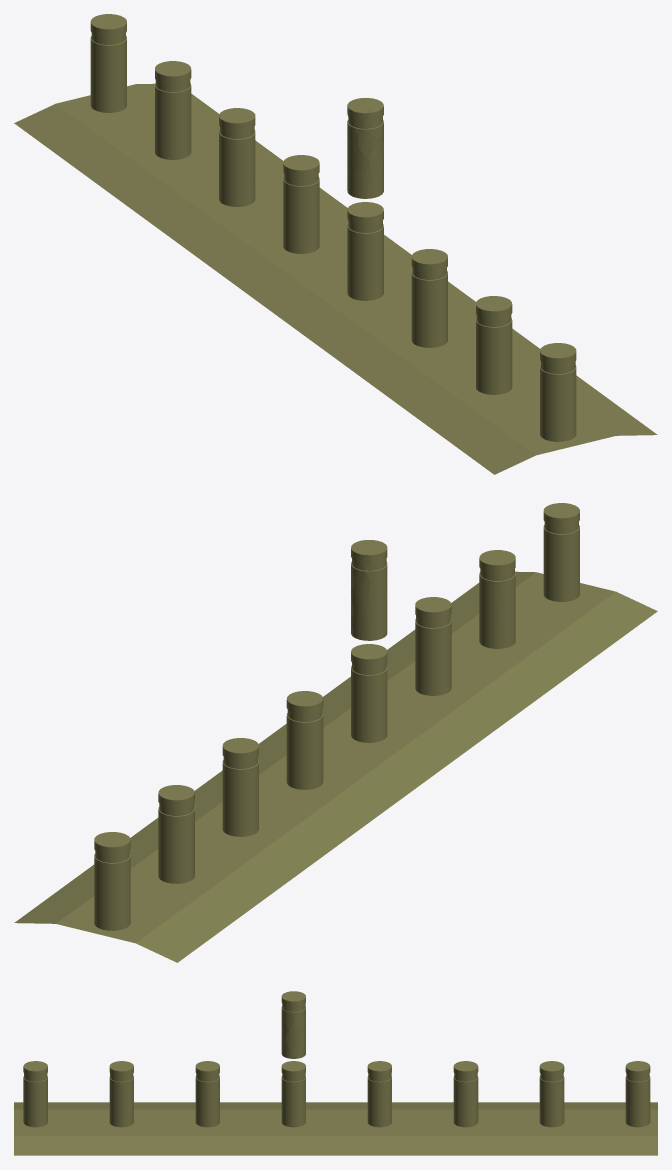
File: AutostopWayParts.fbx
The picture shows the model from 3 angles, top to bottom: view 1: azimuth 30°, elevation 25°; view 2: azimuth 150°, elevation 25°; view 3: azimuth 270°, elevation 25°; orthographic projection. The views are drawn at different scales.
Visible parts, largest first — view 1: Platform, Colon9, Colon14, Colon, Colon10, Colon12, Colon11, Colon13, Colon15; view 2: Platform, Colon11, Colon12, Colon, Colon10, Colon13, Colon14, Colon9, Colon15, Colon12_cell, Colon12_cell.004; view 3: Platform, Colon10, Colon9, Colon, Colon13, Colon12, Colon14, Colon15, Colon11, Colon12_cell.017.
Boxes of the visible parts, x1,y1,x2,y2 form: Platform: (14, 83, 657, 474); Colon9: (155, 61, 191, 159); Colon14: (476, 296, 512, 394); Colon: (90, 14, 126, 112); Colon10: (219, 108, 255, 206); Colon12: (347, 202, 383, 300); Colon11: (283, 155, 319, 253); Colon13: (411, 249, 447, 347); Colon15: (540, 343, 576, 441); Platform: (14, 571, 657, 962); Colon11: (286, 691, 323, 789); Colon12: (351, 644, 387, 742); Colon: (94, 832, 130, 930); Colon10: (222, 738, 258, 836); Colon13: (415, 597, 451, 695); Colon14: (479, 550, 515, 648); Colon9: (158, 785, 194, 883); Colon15: (543, 503, 579, 601); Colon12_cell: (351, 581, 387, 616); Colon12_cell.004: (351, 611, 387, 640); Platform: (14, 1102, 657, 1155); Colon10: (453, 1061, 478, 1127); Colon9: (539, 1061, 564, 1127); Colon: (625, 1061, 650, 1127); Colon13: (195, 1061, 219, 1127); Colon12: (281, 1061, 305, 1127); Colon14: (109, 1061, 133, 1127); Colon15: (23, 1061, 47, 1127); Colon11: (367, 1061, 391, 1127); Colon12_cell.017: (284, 1027, 304, 1050).
Size of what is drawn, in the model's own units: 735 by 847 by 3743.
